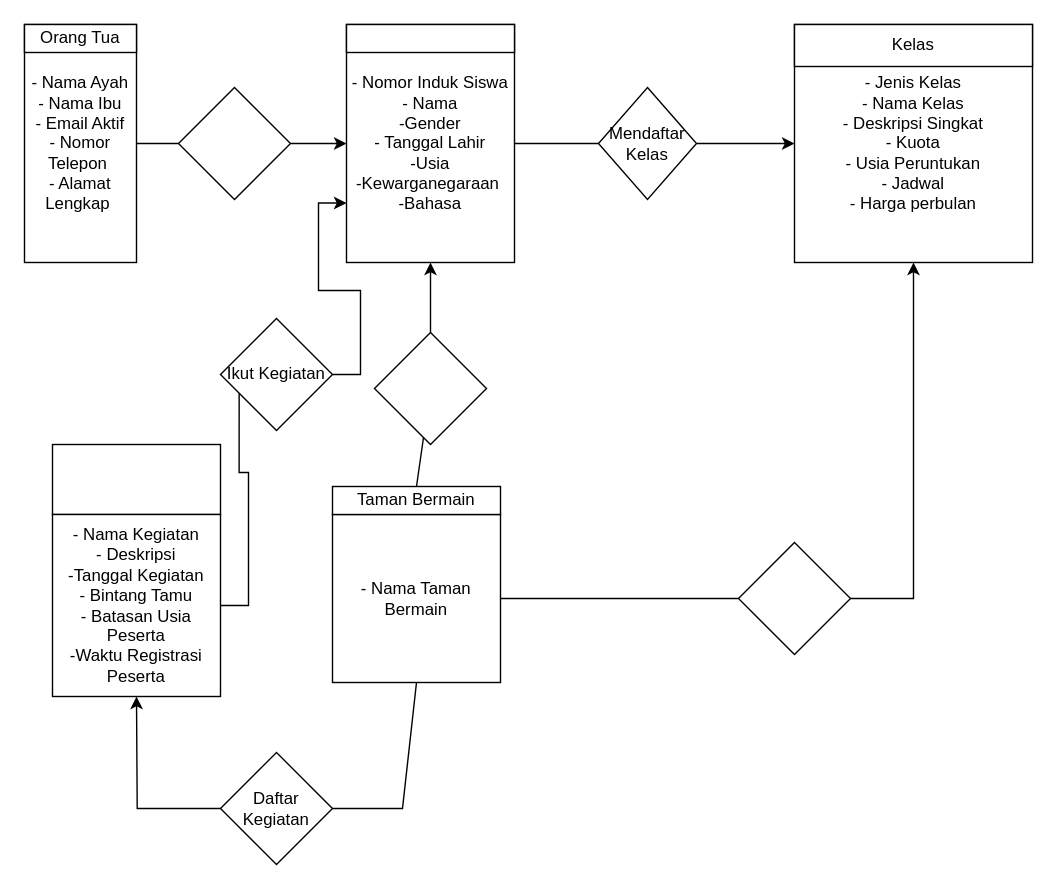
The diagram is 1057 pixels wide and 889 high, and some of its shapes have lost their labels. Here are the shapes that lost their labels. From the top down, the centre of each, then its label:
At point 429,37: "Anak".
At point 233,143: "Orang tua-anak".
At point 429,387: "Mendaftar".
At point 135,478: "Kegiatan Taman Berimain".
At point 793,597: "Kelas yang ada".
